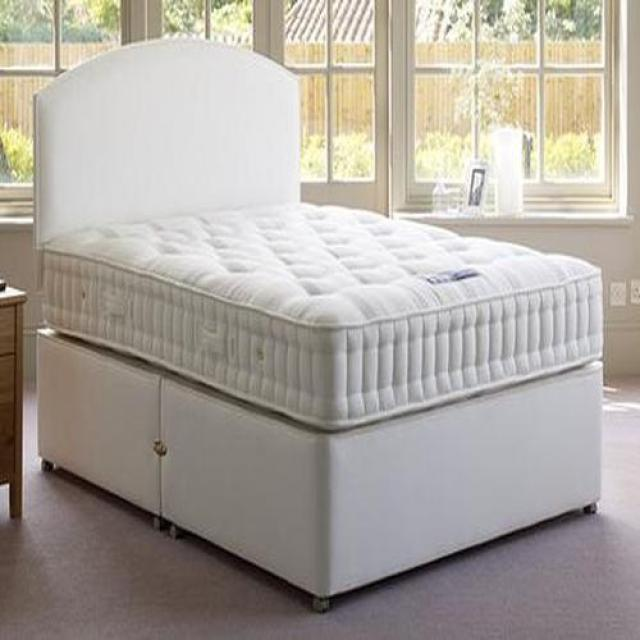bed: (32, 38, 605, 602)
